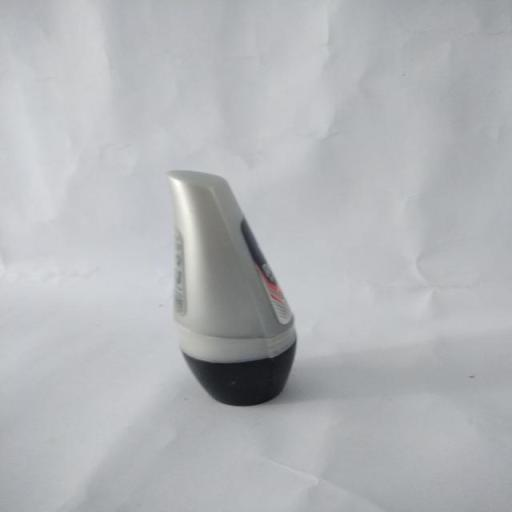plastic: (158, 161, 307, 409)
